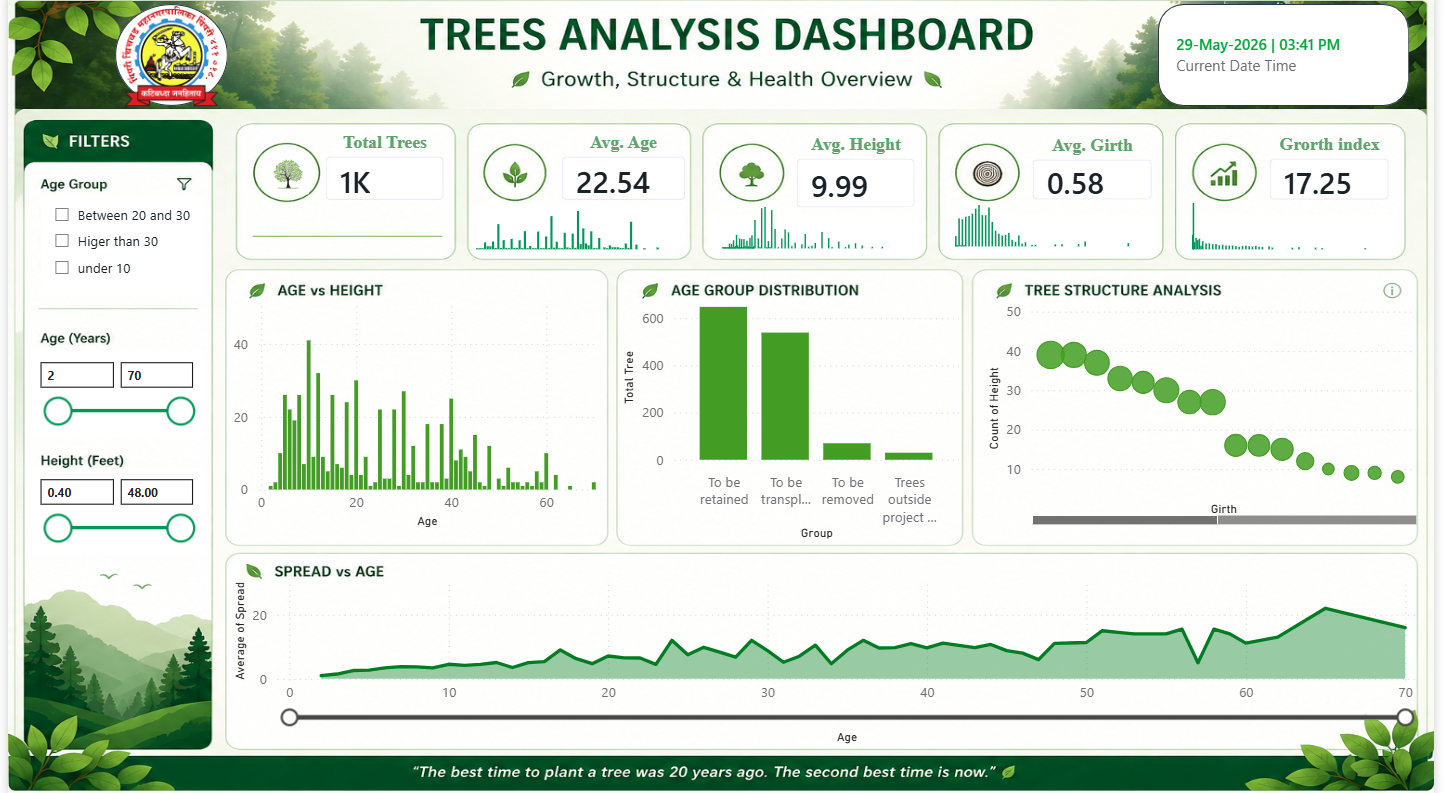

This screenshot's page, from the dashboard's own definition file:
{"tool":"powerbi","page":{"name":"Page 1","canvas":[1280,720],"ordinal":0},"visuals":[{"type":"cardVisual","title":"Total Trees","fields":{"Data":["Tree Name.Total Tree"]},"box":[280.1,123.9,116.7,66.4],"z":0},{"type":"columnChart","fields":{"Y":["Count(Size.Height)"],"Category":["Size.Age"]},"box":[197.5,267.5,341.1,216.4],"z":1000},{"type":"columnChart","fields":{"Y":["Tree Name.Total Tree"],"Category":["Group.Group"]},"box":[546.6,255.8,312.2,238.3],"z":2000},{"type":"scatterChart","fields":{"Size":["Sum(Size.Spread)"],"Y":["Count(Size.Height)"],"X":["Size.Girth "]},"box":[874.4,271.4,394.9,210.1],"z":3000},{"type":"areaChart","fields":{"Category":["Size.Age"],"Y":["Avg(Size.Spread)"]},"box":[197.4,514.5,1071.9,163.4],"z":4000},{"type":"slicer","fields":{"Values":["Size.Age_FLag"]},"box":[29.6,180.4,146.3,90.7],"z":5000},{"type":"slicer","fields":{"Values":["Size.Age"]},"box":[16.2,320.5,159.8,78.1],"z":6000},{"type":"slicer","fields":{"Values":["Size.Height"]},"box":[16.2,425.5,159.8,78.1],"z":7000},{"type":"textbox","box":[629.3,198.4,190.3,35.9],"z":8000},{"type":"textbox","box":[842.1,198.4,190.3,35.9],"z":9000},{"type":"textbox","box":[1054.9,198.4,190.3,35.9],"z":10000},{"type":"textbox","box":[416.6,190.3,190.3,35.9],"z":11000},{"type":"lineStackedColumnComboChart","fields":{"Category":["Size.Age"],"Y":["Sum(Size.Age)"]},"box":[410.3,170.6,202.9,64.6],"z":12000},{"type":"lineStackedColumnComboChart","fields":{"Category":["Size.Height"],"Y":["Sum(Size.Height)"]},"box":[634.7,171.5,192.1,62.8],"z":13000},{"type":"lineStackedColumnComboChart","fields":{"Category":["Size.Girth "],"Y":["Sum(Size.Girth )"]},"box":[842.1,169.7,190.3,62.8],"z":14000},{"type":"cardVisual","title":"Avg. Age","fields":{"Data":["Size.Avg. Age"]},"box":[492,123.9,121.2,66.4],"z":15000},{"type":"cardVisual","title":"Avg. Height ","fields":{"Data":["Size.Avg Height"]},"box":[702.9,125.7,116.7,71.8],"z":16000},{"type":"cardVisual","title":"Avg. Girth","fields":{"Data":["Size.avg. Girth"]},"box":[914.8,126.6,117.6,63.7],"z":17000},{"type":"lineStackedColumnComboChart","fields":{"Category":["Size.Girth "],"Y":["Size.Growth Index"]},"box":[1054.9,172.4,190.3,62.8],"z":18000},{"type":"cardVisual","title":"Grorth index","fields":{"Data":["Size.Growth Index"]},"box":[1127.6,125.7,117.6,64.6],"z":19000},{"type":"image","box":[220,142.7,63.7,36.8],"z":20000},{"type":"shape","box":[96.1,9,101.4,91.6],"z":21000},{"type":"shape","box":[1032.4,9,225.3,91.6],"z":23000},{"type":"cardVisual","fields":{"Data":["Group.Current Date Time"]},"box":[1036.9,4.5,225.3,100.5],"z":24000},{"type":"image","box":[96.1,10.8,98.8,89.8],"z":25000}]}

Visuals, with their boxes in screenshot pixels (x1, y1, x2, y2), scaled from the page's 1280x720 canvas onto the 1445x793 screenshot:
"Total Trees" cardVisual: [left=316, top=136, right=448, bottom=210]
columnChart - Count(Size.Height) x Size.Age: [left=223, top=295, right=608, bottom=533]
columnChart - Tree Name.Total Tree x Group.Group: [left=617, top=282, right=970, bottom=544]
scatterChart - Sum(Size.Spread) x Count(Size.Height): [left=987, top=299, right=1433, bottom=530]
areaChart - Size.Age x Avg(Size.Spread): [left=223, top=567, right=1433, bottom=747]
slicer - Size.Age_FLag: [left=33, top=199, right=199, bottom=299]
slicer - Size.Age: [left=18, top=353, right=199, bottom=439]
slicer - Size.Height: [left=18, top=469, right=199, bottom=555]
textbox: [left=710, top=219, right=925, bottom=258]
textbox: [left=951, top=219, right=1165, bottom=258]
textbox: [left=1191, top=219, right=1406, bottom=258]
textbox: [left=470, top=210, right=685, bottom=249]
lineStackedColumnComboChart - Size.Age x Sum(Size.Age): [left=463, top=188, right=692, bottom=259]
lineStackedColumnComboChart - Size.Height x Sum(Size.Height): [left=717, top=189, right=933, bottom=258]
lineStackedColumnComboChart - Size.Girth  x Sum(Size.Girth ): [left=951, top=187, right=1165, bottom=256]
"Avg. Age" cardVisual: [left=555, top=136, right=692, bottom=210]
"Avg. Height " cardVisual: [left=794, top=138, right=925, bottom=218]
"Avg. Girth" cardVisual: [left=1033, top=139, right=1165, bottom=210]
lineStackedColumnComboChart - Size.Girth  x Size.Growth Index: [left=1191, top=190, right=1406, bottom=259]
"Grorth index" cardVisual: [left=1273, top=138, right=1406, bottom=210]
image: [left=248, top=157, right=320, bottom=198]
shape: [left=108, top=10, right=223, bottom=111]
shape: [left=1165, top=10, right=1420, bottom=111]
cardVisual - Group.Current Date Time: [left=1171, top=5, right=1425, bottom=116]
image: [left=108, top=12, right=220, bottom=111]
